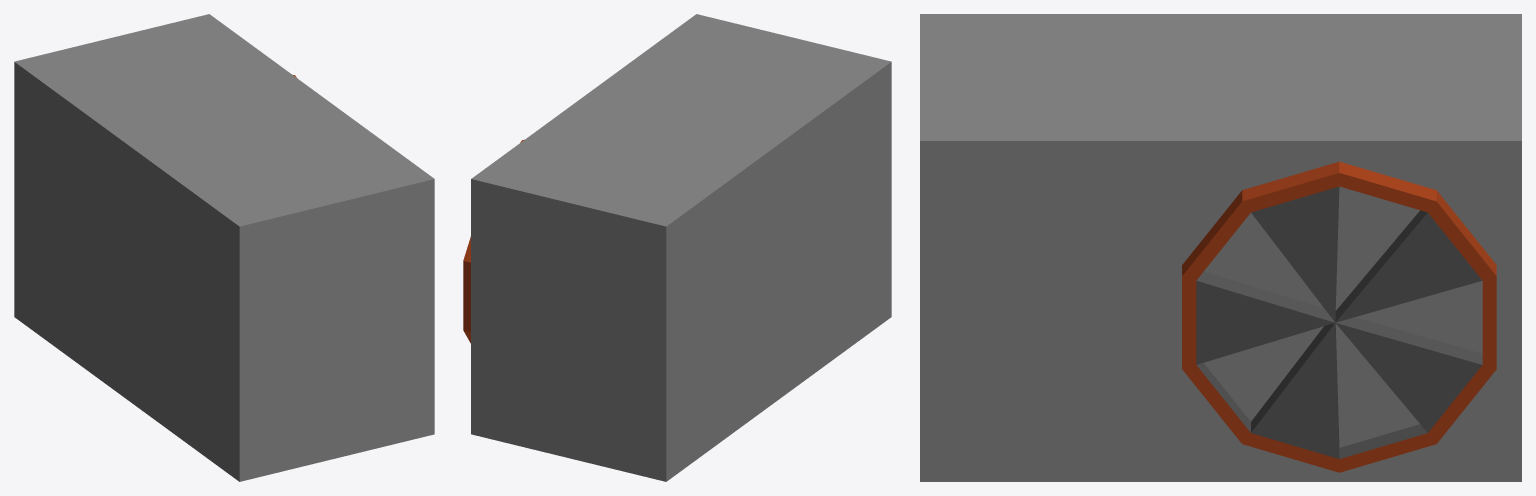
The model's file is Vent_03.fbx.
The picture shows the model from 3 angles, left to right: view 1: azimuth 30°, elevation 25°; view 2: azimuth 150°, elevation 25°; view 3: azimuth 270°, elevation 25°; orthographic projection. The views are drawn at different scales.
Visible parts, largest first — view 1: Vent_04; view 2: Vent_04; view 3: Vent_04.
Boxes of the visible parts, bbox=[...] form: Vent_04: bbox=[14, 14, 434, 481]; Vent_04: bbox=[463, 14, 891, 481]; Vent_04: bbox=[920, 14, 1521, 481].
Bounding box in the file's own units: 43.54 × 50 × 80.
1 material, 1 textured.
